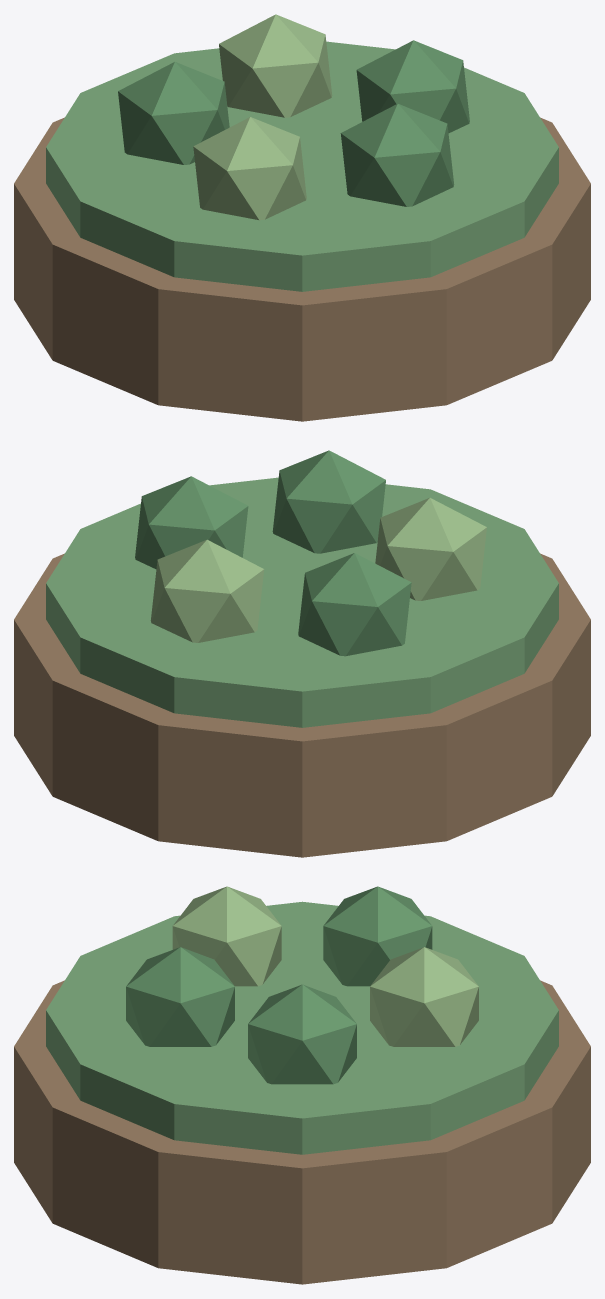
The model's file is pla_musgo.glb.
3 renders of one model, top to bottom at view 1: azimuth 30°, elevation 25°; view 2: azimuth 150°, elevation 25°; view 3: azimuth 270°, elevation 25°, orthographic.
Visible parts, largest first — view 1: PLA_MUSGO_v01; view 2: PLA_MUSGO_v01; view 3: PLA_MUSGO_v01.
Boxes of the visible parts, x1,y1,x2,y2 form: PLA_MUSGO_v01: (14,14,590,421); PLA_MUSGO_v01: (14,450,590,857); PLA_MUSGO_v01: (14,886,590,1284).
Size of the model in its own units: 0.36 by 0.16 by 0.36.
